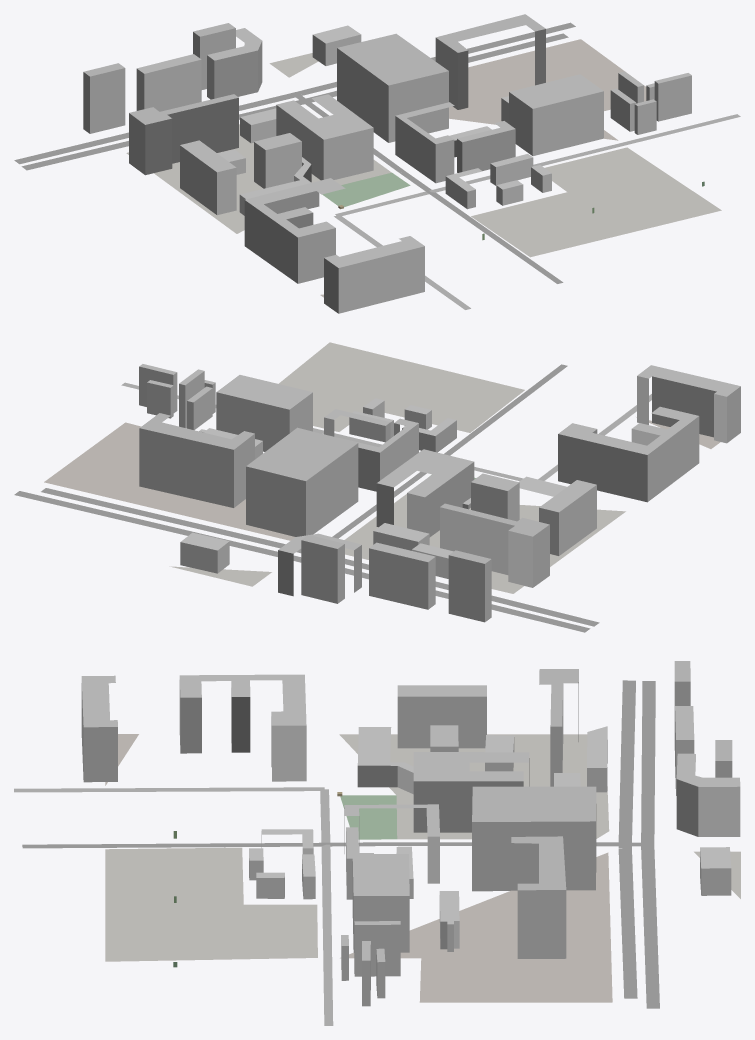
3 renders of one model, top to bottom at view 1: azimuth 30°, elevation 25°; view 2: azimuth 150°, elevation 25°; view 3: azimuth 270°, elevation 25°, orthographic. The views are drawn at different scales.
Bounding box in the file's own units: 645 × 60.2 × 572.
